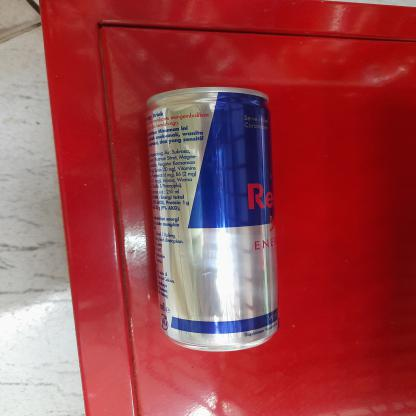bottle: (139, 84, 284, 355)
